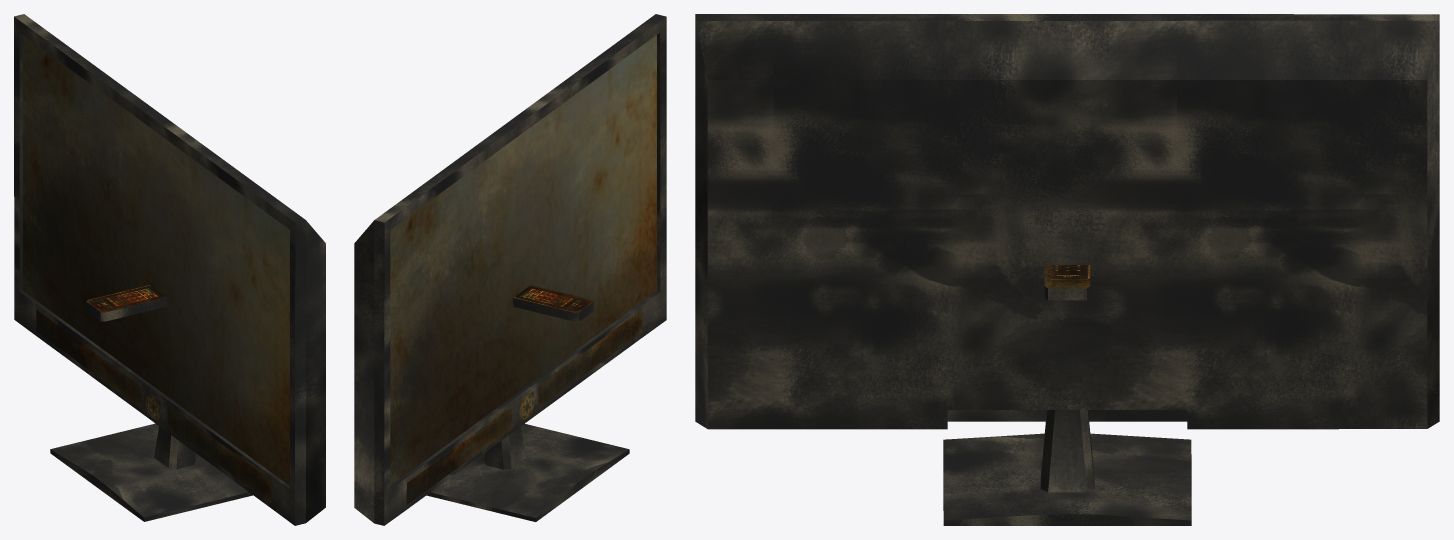
3 renders of one model, left to right at view 1: azimuth 30°, elevation 25°; view 2: azimuth 150°, elevation 25°; view 3: azimuth 270°, elevation 25°, orthographic. The views are drawn at different scales.
Parts seen in each view (by area): view 1: tv, tv_remote; view 2: tv, tv_remote; view 3: tv, tv_remote.
Boxes of the visible parts, x1,y1,x2,y2 form: tv: [14, 14, 325, 525]; tv_remote: [86, 285, 166, 321]; tv: [354, 14, 666, 525]; tv_remote: [513, 285, 593, 321]; tv: [695, 14, 1439, 525]; tv_remote: [1044, 265, 1090, 300].
Size of the model in its own units: 0.2726 by 0.694 by 1.
